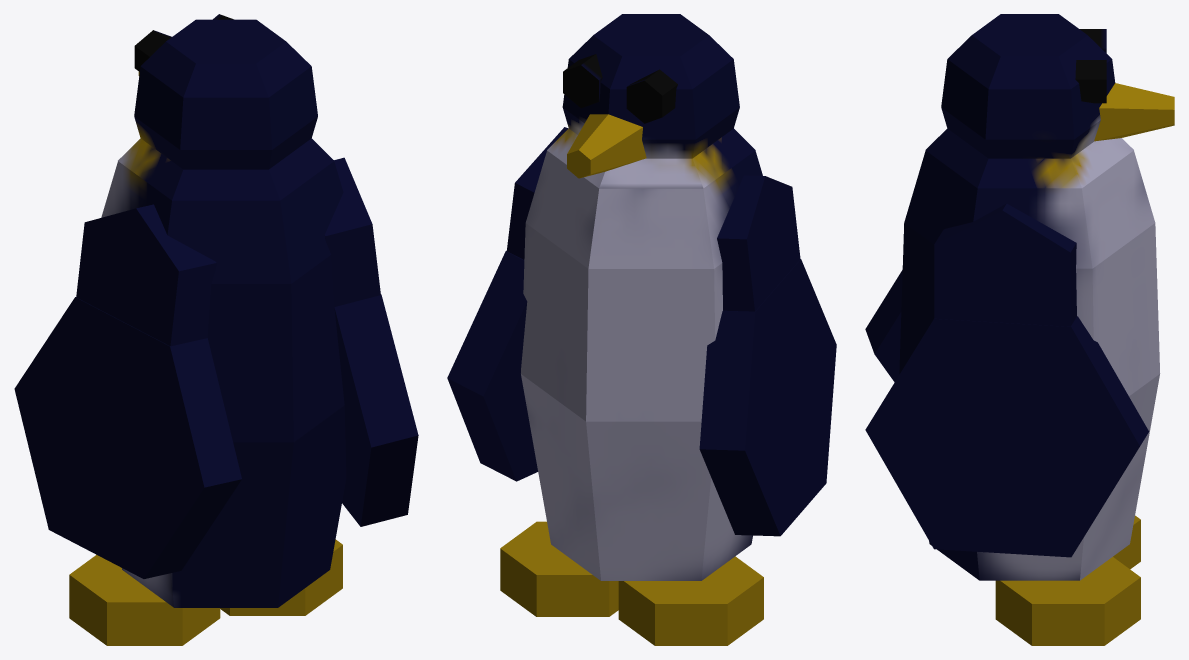
The model's file is Norbert1.gltf.
3 renders of one model, left to right at view 1: azimuth 30°, elevation 25°; view 2: azimuth 150°, elevation 25°; view 3: azimuth 270°, elevation 25°, orthographic. The views are drawn at different scales.
Visible parts, largest first — view 1: Torso, Wing.Lower.Left, Head, Wing.Lower.Left.001, Wing.Upper.Left, Foot.Left, Wing.Upper.Right, Foot.Right, Eye.Left; view 2: Torso, Wing.Lower.Left, Head, Wing.Lower.Left.001, Foot.Left, Wing.Upper.Left, Foot.Right, Beak, Eye.Left, Wing.Upper.Right, Eye.Right; view 3: Wing.Lower.Left.001, Torso, Head, Wing.Upper.Right, Foot.Right, Beak, Wing.Lower.Left, Eye.Right, Foot.Left.
Part boxes in pixels (left/top/right/bottom): Torso: left=101, top=161, right=346, bottom=607; Wing.Lower.Left: left=14, top=297, right=241, bottom=578; Head: left=118, top=19, right=334, bottom=200; Wing.Lower.Left.001: left=334, top=294, right=418, bottom=526; Wing.Upper.Left: left=76, top=204, right=216, bottom=346; Foot.Left: left=69, top=555, right=220, bottom=645; Wing.Upper.Right: left=324, top=157, right=380, bottom=306; Foot.Right: left=220, top=539, right=342, bottom=615; Eye.Left: left=134, top=30, right=171, bottom=71; Torso: left=521, top=150, right=762, bottom=580; Wing.Lower.Left: left=699, top=259, right=836, bottom=536; Head: left=547, top=14, right=755, bottom=188; Wing.Lower.Left.001: left=447, top=251, right=537, bottom=481; Foot.Left: left=618, top=556, right=763, bottom=645; Wing.Upper.Left: left=717, top=175, right=800, bottom=311; Foot.Right: left=500, top=521, right=618, bottom=616; Beak: left=567, top=114, right=646, bottom=178; Eye.Left: left=626, top=69, right=677, bottom=123; Wing.Upper.Right: left=506, top=127, right=568, bottom=259; Eye.Right: left=563, top=54, right=602, bottom=108; Wing.Lower.Left.001: left=865, top=316, right=1148, bottom=557; Torso: left=899, top=150, right=1160, bottom=580; Head: left=925, top=14, right=1133, bottom=188; Wing.Upper.Right: left=934, top=203, right=1076, bottom=326; Foot.Right: left=995, top=557, right=1140, bottom=645; Beak: left=1094, top=83, right=1174, bottom=141; Wing.Lower.Left: left=865, top=270, right=902, bottom=382; Eye.Right: left=1075, top=60, right=1106, bottom=103; Foot.Left: left=1113, top=515, right=1140, bottom=569.
Size of what is drawn, in the model's own units: 2.54 by 4.49 by 2.27.
Materials: 1 (1 with a texture image).
